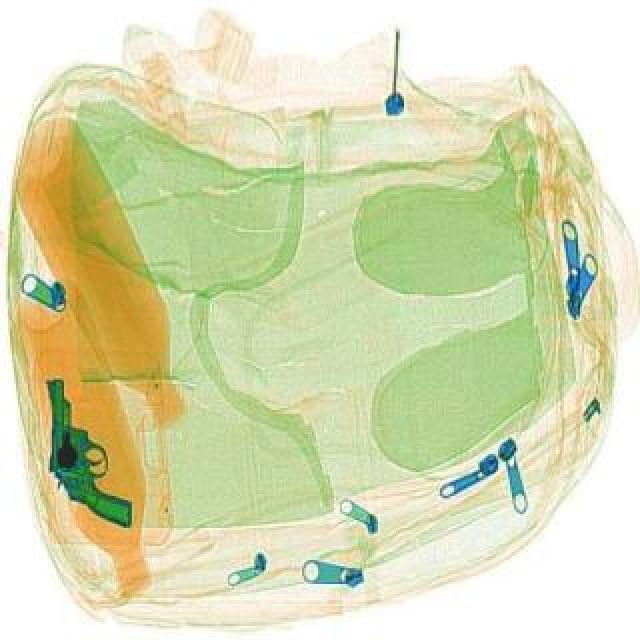gun: (16, 360, 136, 540)
